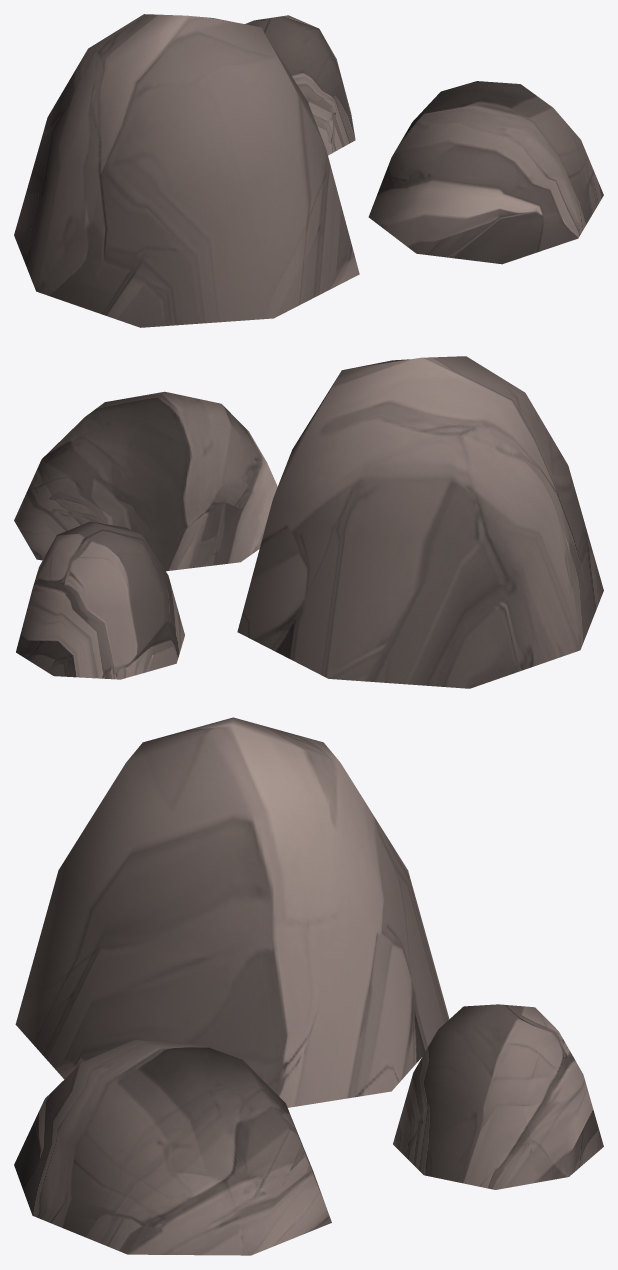
Rendered from Rocks.fbx.
The picture shows the model from 3 angles, top to bottom: view 1: azimuth 30°, elevation 25°; view 2: azimuth 150°, elevation 25°; view 3: azimuth 270°, elevation 25°; orthographic projection. The views are drawn at different scales.
Parts seen in each view (by area): view 1: Rocks; view 2: Rocks; view 3: Rocks.
Part boxes in pixels (x1=…): Rocks: x1=14, y1=14, x2=603, y2=327; Rocks: x1=14, y1=356, x2=603, y2=688; Rocks: x1=14, y1=717, x2=603, y2=1255.
Size of the model in its own units: 0.6076 by 0.2645 by 0.4708.
